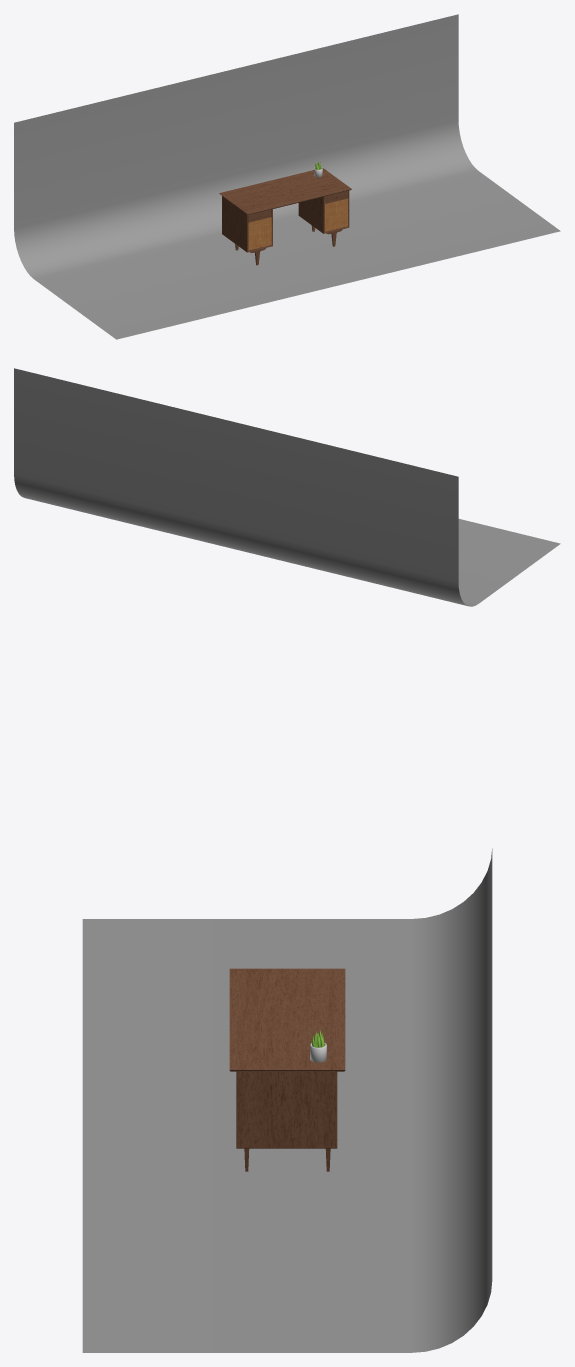
The model's file is vintageDesk.gltf.
3 views of the same model, one above another, from view 1: azimuth 30°, elevation 25°; view 2: azimuth 150°, elevation 25°; view 3: azimuth 270°, elevation 25° (orthographic). The views are drawn at different scales.
Parts seen in each view (by area): view 1: Plane, Tampo, Nicho, Porta_R, Porta_L; view 2: Plane; view 3: Plane, Tampo, Nicho.
Boxes of the visible parts, x1,y1,x2,y2 form: Plane: (14, 14, 560, 339); Tampo: (219, 168, 351, 214); Nicho: (222, 190, 349, 252); Porta_R: (324, 198, 348, 231); Porta_L: (248, 217, 271, 250); Plane: (14, 368, 560, 606); Plane: (82, 848, 492, 1352); Tampo: (229, 968, 345, 1071); Nicho: (236, 1071, 337, 1148).
Bounding box in the file's own units: 6.2 × 1.89 × 2.48.
8 materials, 2 textured.
